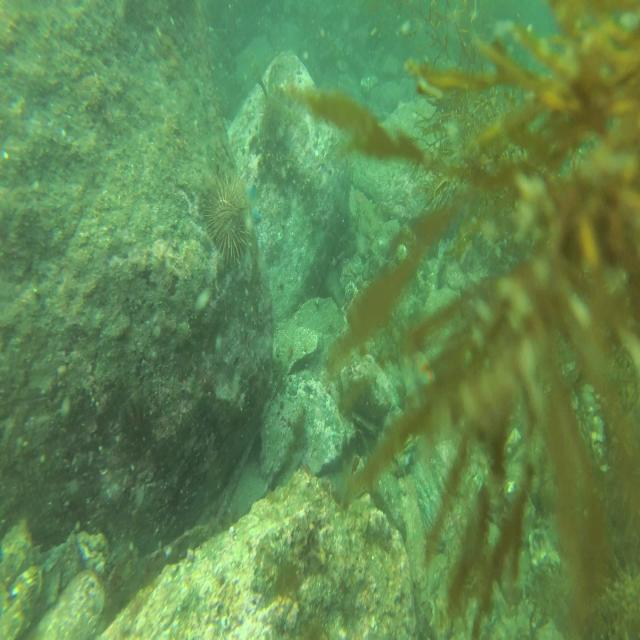echinus: (201, 165, 249, 268)
starfish: (412, 344, 440, 411)
